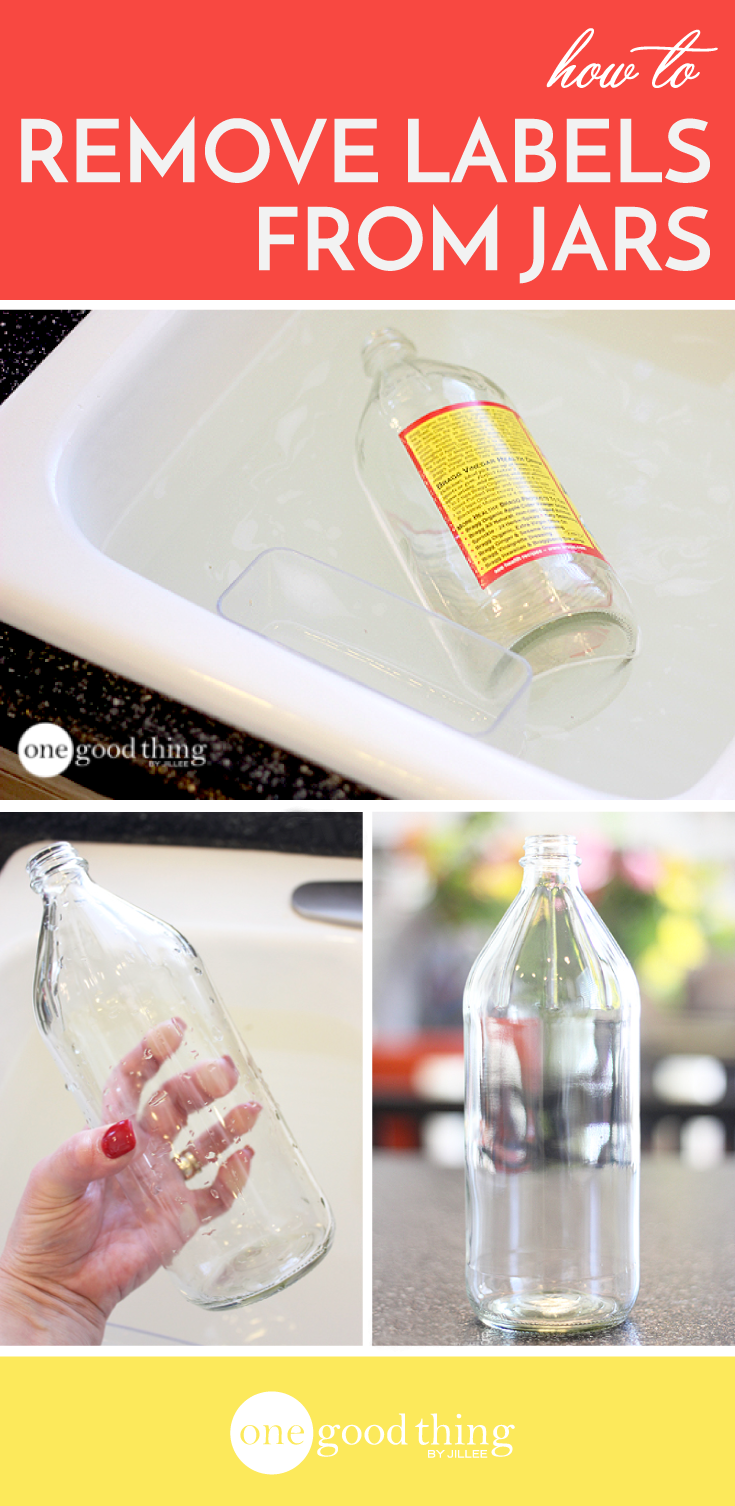glass_bottle: (20, 839, 340, 1317), (345, 322, 648, 748), (455, 830, 649, 1342)
